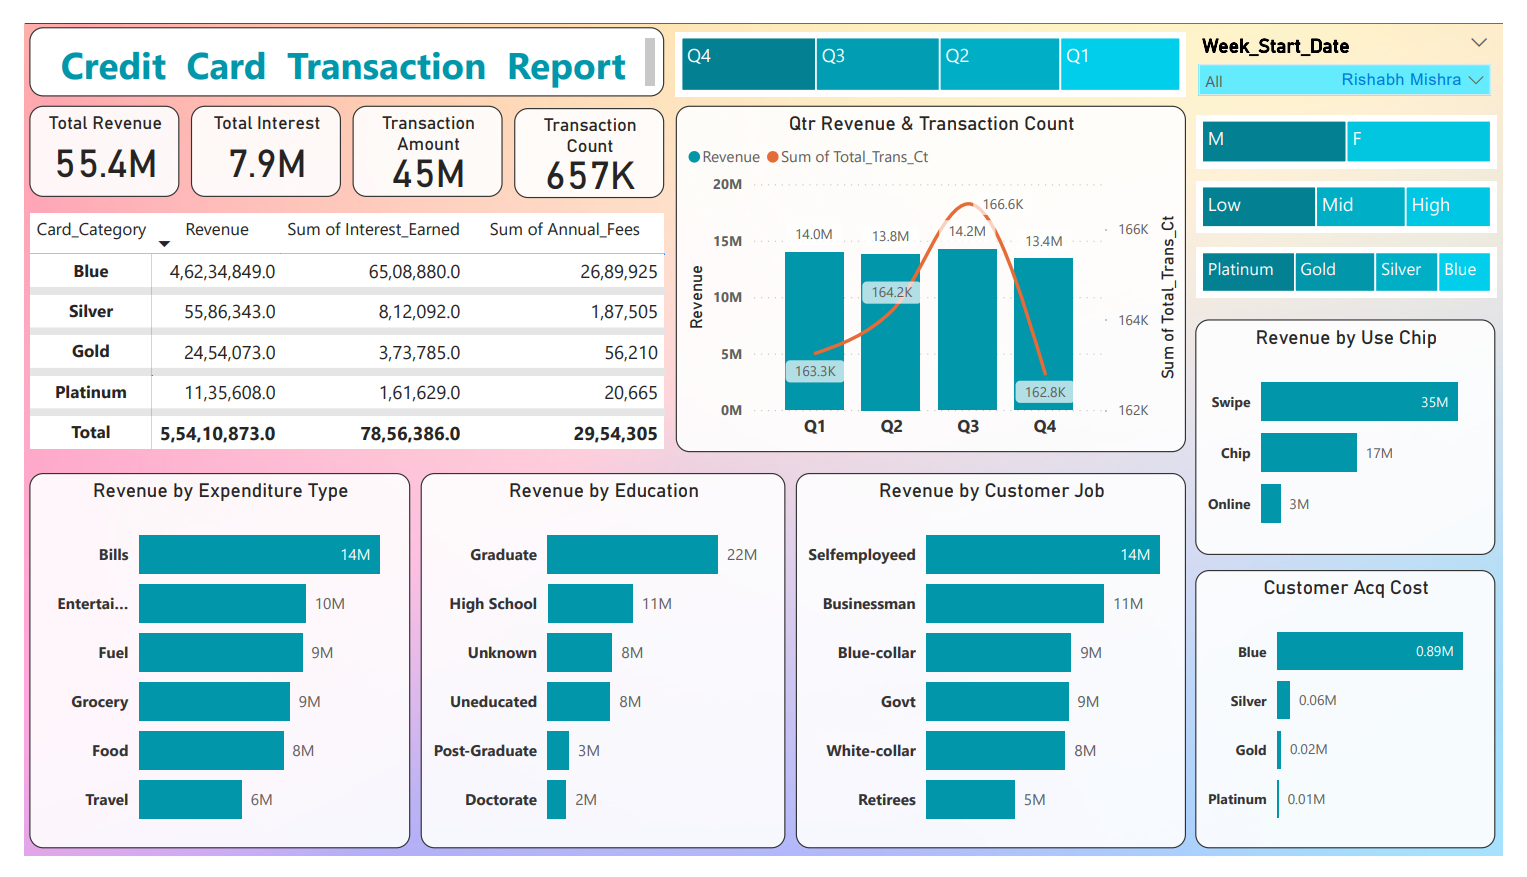

Layout of this report page (visuals, bound fields, positions):
{"tool":"powerbi","page":{"name":"Credit Card Transaction Report","canvas":[1280,720],"ordinal":1},"visuals":[{"type":"lineStackedColumnComboChart","title":"Revenue and Total_Trans_Count by Qtr","fields":{"Y":["credit_card.Revenue"],"Category":["credit_card.Qtr"],"Y2":["credit_card.Total_Trans_Vol"]},"box":[11.2,402.2,500.9,299.8],"z":0},{"type":"shape","box":[12.5,13.7,512.1,82.4],"z":1000},{"type":"barChart","title":"Revenue by Expenditure Type","fields":{"Y":["credit_card.Revenue"],"Category":["credit_card.Exp_Type"]},"box":[12.5,212.3,499.6,176.1],"z":2000},{"type":"barChart","title":"Revenue by Education","fields":{"Y":["credit_card.Revenue"],"Category":["customer.Education_Level"]},"box":[895.6,327.2,352.2,178.6],"z":3000},{"type":"barChart","title":"Revenue by Job of Customer","fields":{"Y":["credit_card.Revenue"],"Category":["customer.Customer_Job"]},"box":[885.6,522.1,362.2,179.9],"z":4000},{"type":"barChart","title":"Revenue by Card Type","fields":{"Y":["credit_card.Revenue"],"Category":["credit_card.Card_Category"]},"box":[550.8,522.1,326,179.9],"z":5000},{"type":"barChart","title":"Revenue by Expenditure Type","fields":{"Y":["credit_card.Revenue"],"Category":["credit_card.Use_Chip"]},"box":[543.3,327.2,342.2,178.6],"z":6000},{"type":"tableEx","fields":{"Values":["credit_card.Card_Category","credit_card.Revenue","credit_card.Total_Trans_Amt","credit_card.Interest_Earned"]},"box":[750.4,126.2,521.5,186.5],"z":7000},{"type":"card","title":"Revenue","fields":{"Values":["credit_card.Revenue"]},"box":[11.5,114.4,116.2,72.4],"z":8000},{"type":"card","title":"Trans.Amt","fields":{"Values":["credit_card.Total_Trans_Amt"]},"box":[277.5,114.4,117.4,72.4],"z":9000},{"type":"card","title":"Trans.Cnt","fields":{"Values":["credit_card.Total_Trans_Vol"]},"box":[406.2,114.4,117.4,72.4],"z":10000},{"type":"card","title":"Intrest","fields":{"Values":["credit_card.Interest_Earned"]},"box":[142.9,113.9,118.4,72.6],"z":11000},{"type":"slicer","fields":{"Values":["credit_card.Week_Start_Date"]},"box":[532.6,39.1,206.6,87.1],"z":12000},{"type":"treemap","fields":{"Group":["credit_card.Qtr"],"Values":["credit_card.Client_Num"]},"box":[1075.3,39.1,196.5,67],"z":13000},{"type":"treemap","fields":{"Group":["customer.Gender"],"Values":["credit_card.Client_Num"]},"box":[532.6,236.7,206.6,63.6],"z":14000},{"type":"treemap","fields":{"Group":["credit_card.Card_Category"],"Values":["credit_card.Client_Num"]},"box":[750.4,39.1,316,67],"z":15000},{"type":"treemap","fields":{"Group":["customer.IncomeGroup"],"Values":["credit_card.Client_Num"]},"box":[532.6,150.7,207.7,60.3],"z":16000}]}

Visuals, with their boxes in screenshot pixels (x1, y1, x2, y2), scaled from the page's 1280x720 canvas onto the 1527x877 screenshot:
"Revenue and Total_Trans_Count by Qtr" lineStackedColumnComboChart: <box>13,490,611,855</box>
shape: <box>15,17,626,117</box>
"Revenue by Expenditure Type" barChart: <box>15,259,611,473</box>
"Revenue by Education" barChart: <box>1068,399,1489,616</box>
"Revenue by Job of Customer" barChart: <box>1056,636,1489,855</box>
"Revenue by Card Type" barChart: <box>657,636,1046,855</box>
"Revenue by Expenditure Type" barChart: <box>648,399,1056,616</box>
tableEx - credit_card.Card_Category x credit_card.Revenue: <box>895,154,1517,381</box>
"Revenue" card: <box>14,139,152,228</box>
"Trans.Amt" card: <box>331,139,471,228</box>
"Trans.Cnt" card: <box>485,139,625,228</box>
"Intrest" card: <box>170,139,312,227</box>
slicer - credit_card.Week_Start_Date: <box>635,48,882,154</box>
treemap - credit_card.Qtr x credit_card.Client_Num: <box>1283,48,1517,129</box>
treemap - customer.Gender x credit_card.Client_Num: <box>635,288,882,366</box>
treemap - credit_card.Card_Category x credit_card.Client_Num: <box>895,48,1272,129</box>
treemap - customer.IncomeGroup x credit_card.Client_Num: <box>635,184,883,257</box>
